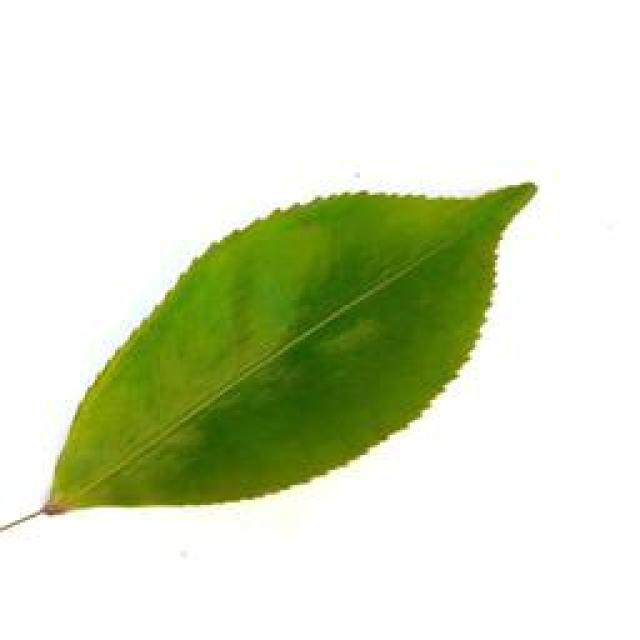Healthy: (49, 174, 543, 506)
